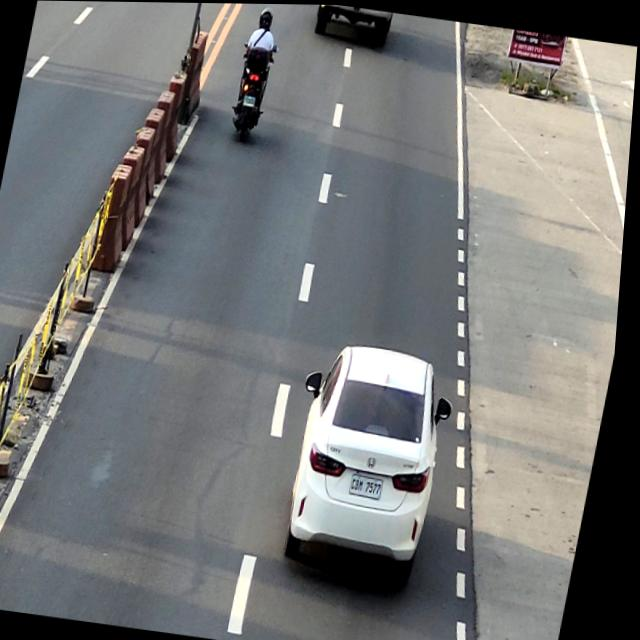Car: (276, 337, 468, 587), (311, 4, 394, 49)
License-Plate: (355, 472, 392, 498), (242, 93, 258, 107)
Motorcycle: (227, 38, 280, 142)
